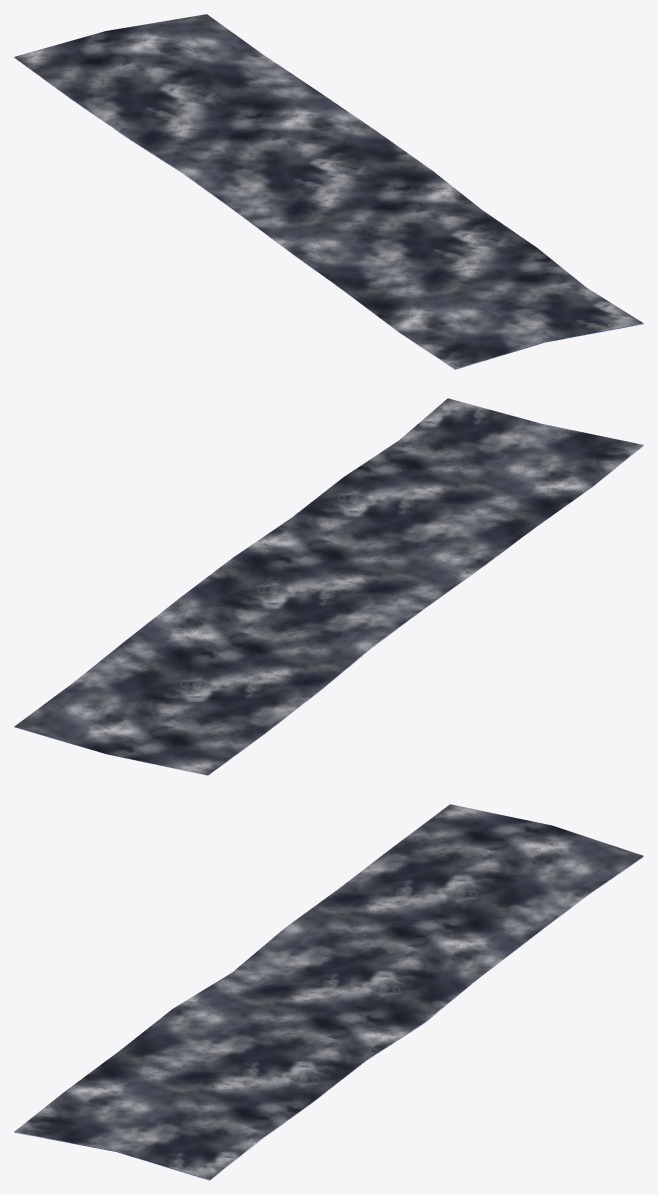
File: LONE_MOUNTAIN_WATERFALLS_MAIN_WATER_COOLER01.fbx
The picture shows the model from 3 angles, top to bottom: view 1: azimuth 30°, elevation 25°; view 2: azimuth 150°, elevation 25°; view 3: azimuth 330°, elevation 25°; orthographic projection. The views are drawn at different scales.
Parts seen in each view (by area): view 1: LONE_MOUNTAIN_WATERFALLS_MAIN_WATER_COOLER01; view 2: LONE_MOUNTAIN_WATERFALLS_MAIN_WATER_COOLER01; view 3: LONE_MOUNTAIN_WATERFALLS_MAIN_WATER_COOLER01.
Boxes of the visible parts, <box> form: LONE_MOUNTAIN_WATERFALLS_MAIN_WATER_COOLER01: <box>14,14,643,369</box>; LONE_MOUNTAIN_WATERFALLS_MAIN_WATER_COOLER01: <box>14,398,643,775</box>; LONE_MOUNTAIN_WATERFALLS_MAIN_WATER_COOLER01: <box>14,804,643,1180</box>.
Size of the model in its own units: 42733 by 1018 by 161976.
2 materials, 2 textured.
